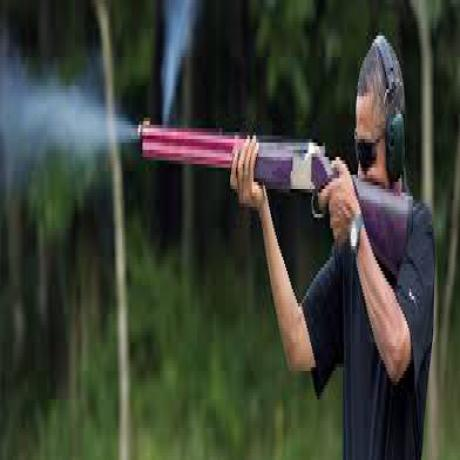Guns: (136, 84, 419, 276)
